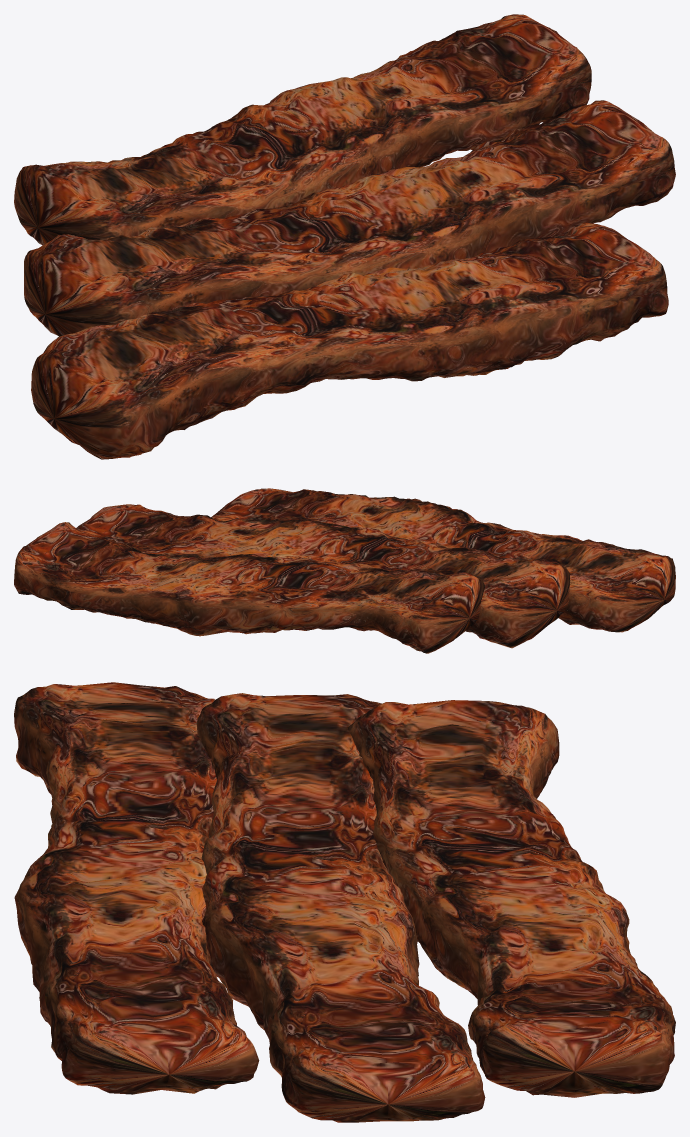
Rendered from grilled-pork-liempo.glb.
3 renders of one model, top to bottom at view 1: azimuth 30°, elevation 25°; view 2: azimuth 150°, elevation 25°; view 3: azimuth 270°, elevation 25°, orthographic. The views are drawn at different scales.
Visible parts, largest first — view 1: Pork belly strip 1, Pork belly strip 2, Pork belly strip 3; view 2: Pork belly strip 3, Pork belly strip 2, Pork belly strip 1; view 3: Pork belly strip 2, Pork belly strip 3, Pork belly strip 1.
Boxes of the visible parts, left/top/right/bottom form: Pork belly strip 1: left=31, top=222, right=668, bottom=459; Pork belly strip 2: left=24, top=100, right=675, bottom=336; Pork belly strip 3: left=14, top=14, right=591, bottom=245; Pork belly strip 3: left=14, top=522, right=484, bottom=653; Pork belly strip 2: left=76, top=504, right=569, bottom=648; Pork belly strip 1: left=211, top=488, right=675, bottom=632; Pork belly strip 2: left=196, top=693, right=485, bottom=1122; Pork belly strip 3: left=348, top=700, right=675, bottom=1097; Pork belly strip 1: left=14, top=682, right=259, bottom=1094.
Size of the model in its own units: 3.36 by 0.5999 by 2.3.
Materials: 1 (1 with a texture image).
